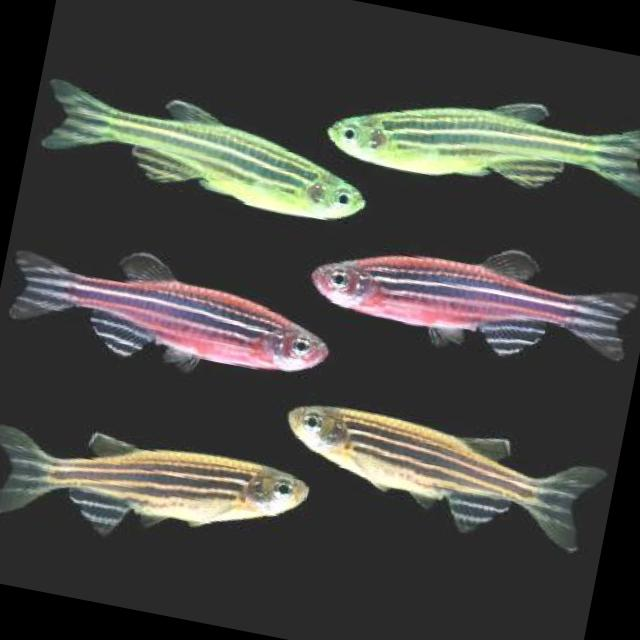ZebraFish: (295, 209, 640, 385), (27, 60, 384, 228), (270, 387, 610, 560), (0, 220, 336, 393), (0, 398, 314, 583), (323, 56, 640, 220)
